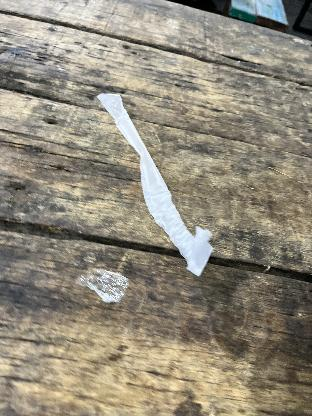Others: (98, 92, 214, 278), (84, 264, 132, 306)
